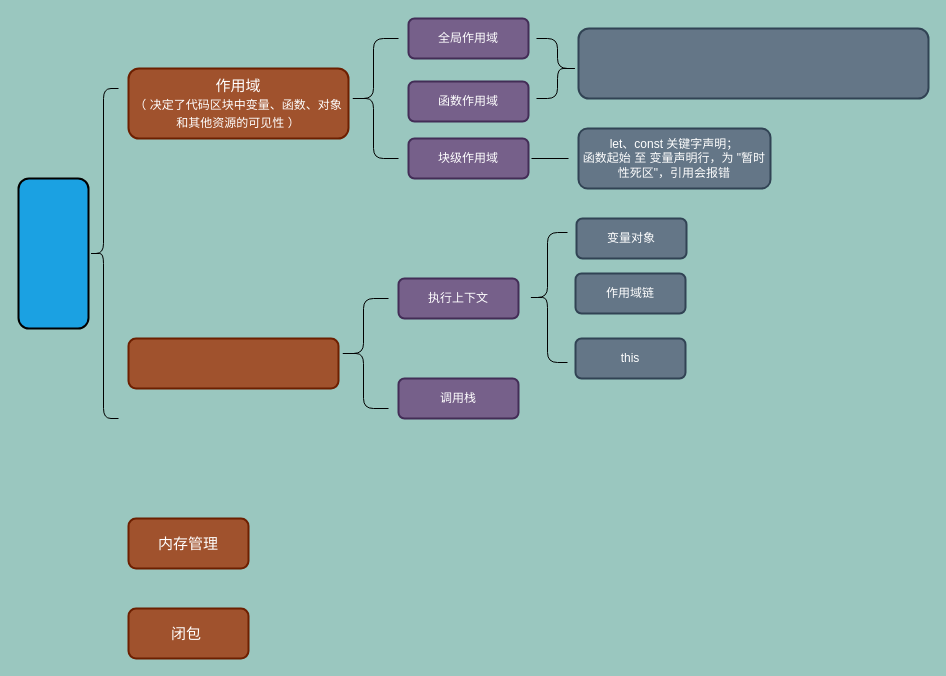
Image size: 946x676. Some labels were removed from this diagram. The shapes that lost their labels are listed below. From the top down, each one's centre as x and y in pixels, then its label:
pixel 753 63: var 关键字声明； 在预编译阶段，进行 "变量提升"； 声明式函数会被整体提升； 表达式函数会提升变量，函数体赋值给变量的操作不会提前
pixel 53 253: 闭 包 相关知识
pixel 233 363: 执行上下文和调用栈
